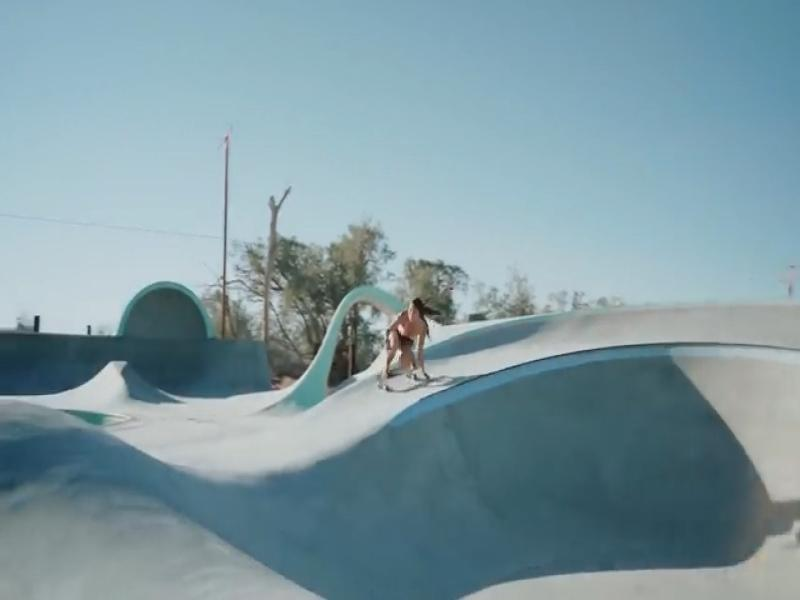person: (380, 298, 431, 389)
skate: (377, 365, 422, 393)
